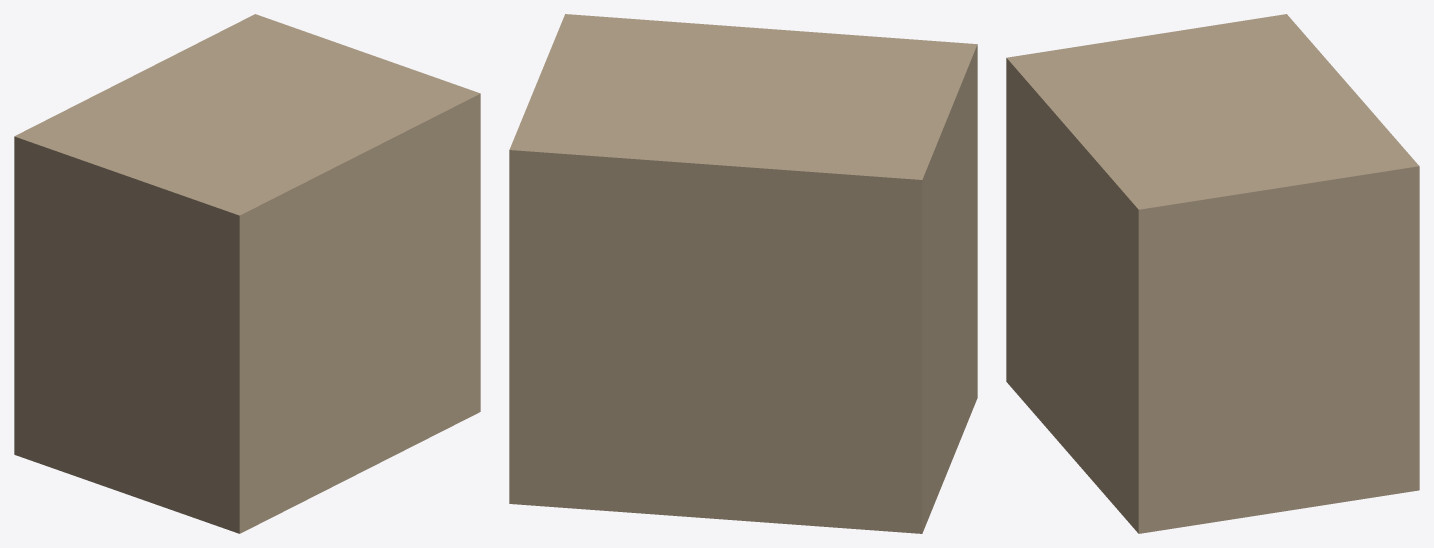
File: bld_106796853.dae
The picture shows the model from 3 angles, left to right: view 1: azimuth 30°, elevation 25°; view 2: azimuth 150°, elevation 25°; view 3: azimuth 270°, elevation 25°; orthographic projection. The views are drawn at different scales.
Visible parts, largest first — view 1: bld_106796853; view 2: bld_106796853; view 3: bld_106796853.
Boxes of the visible parts, x1,y1,x2,y2 form: bld_106796853: (14,14,480,533); bld_106796853: (509,14,977,533); bld_106796853: (1006,14,1419,533).
Size of the model in its own units: 10.36 by 9.24 by 8.
